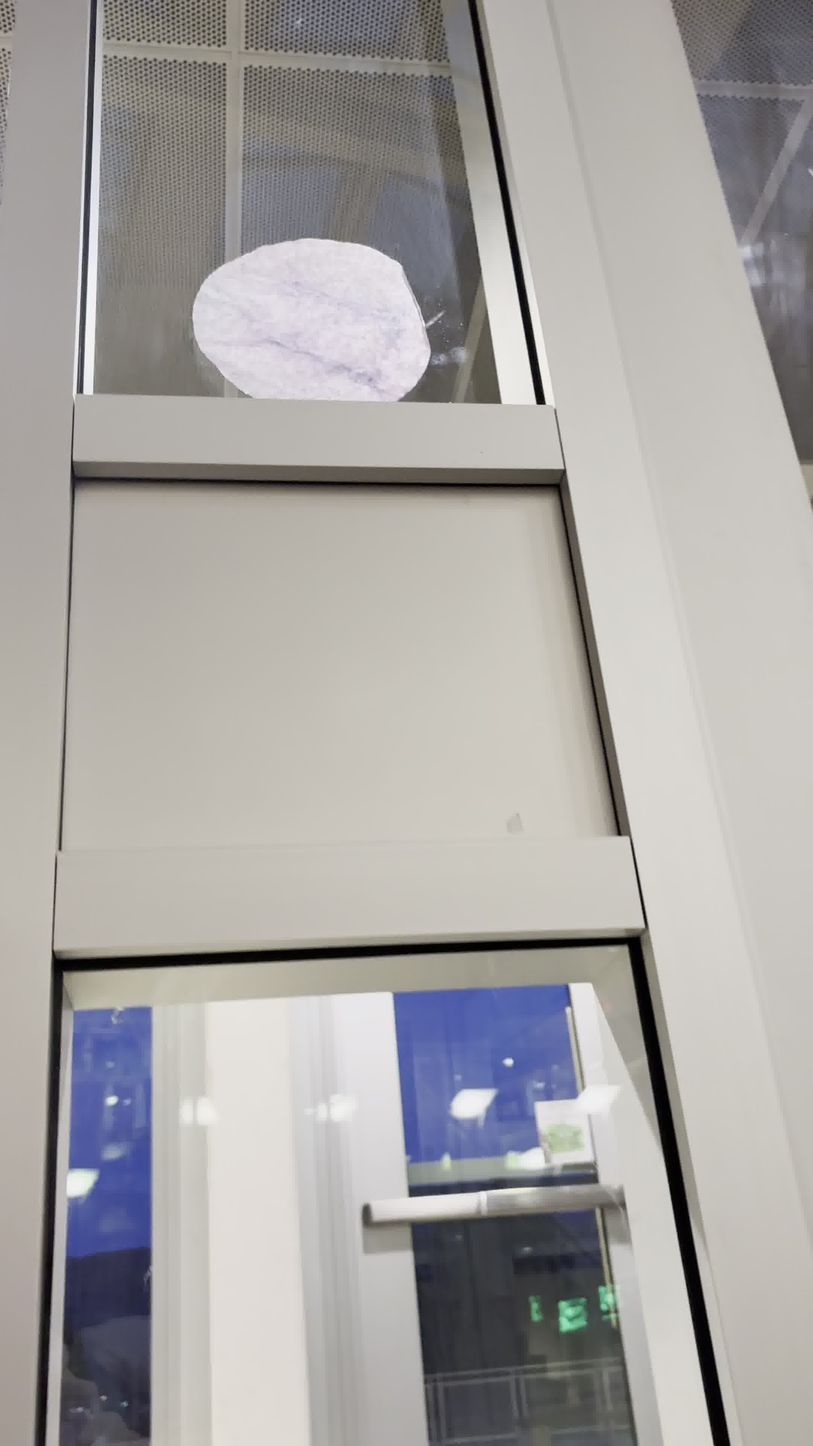Target: (191, 233, 433, 409)
